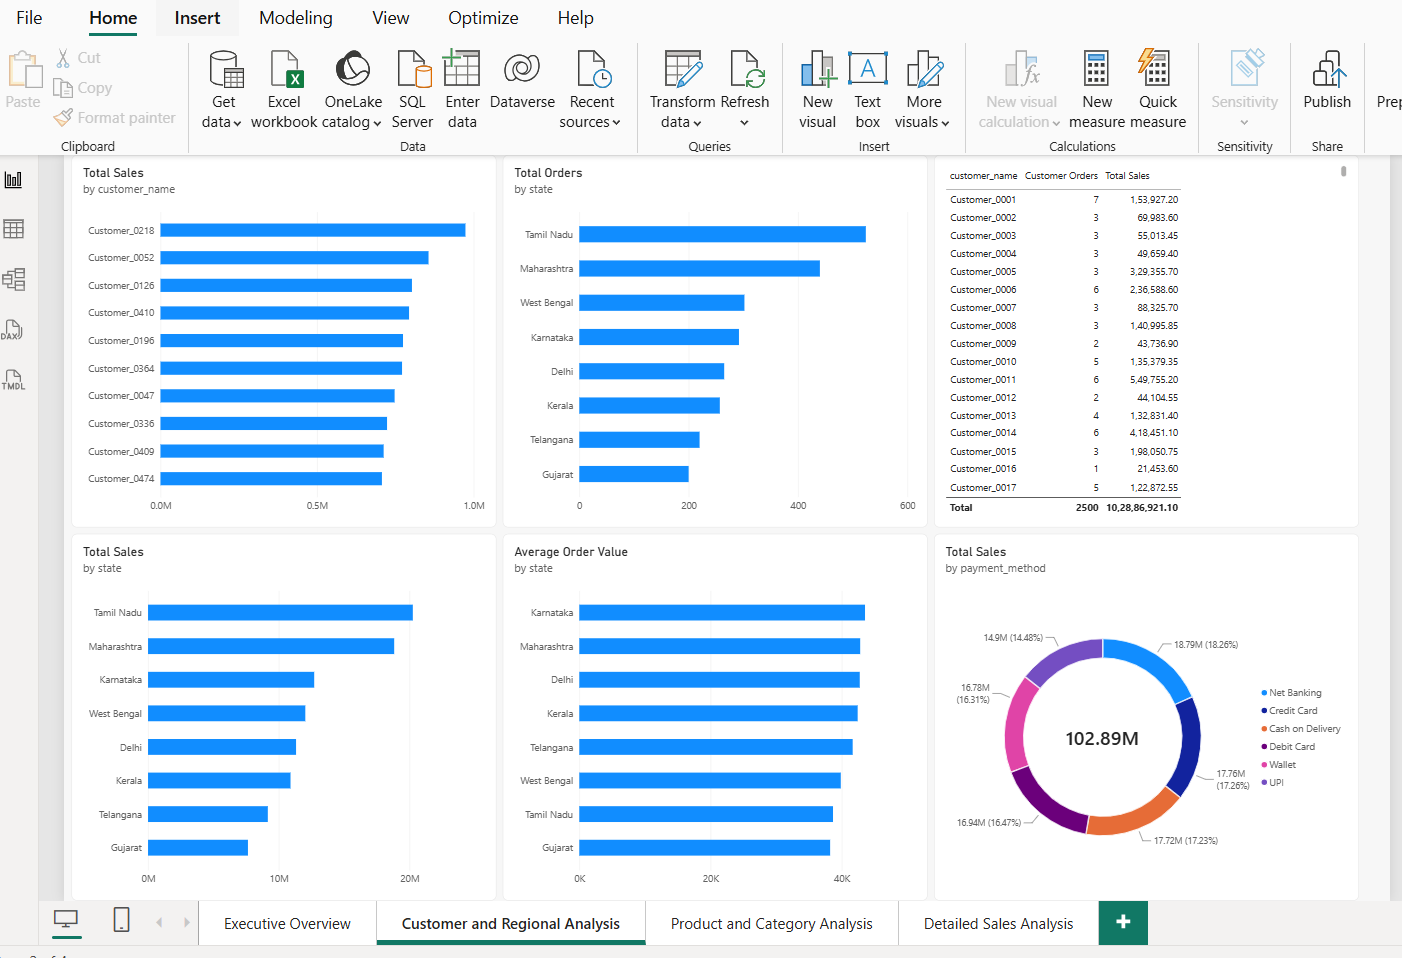

What the dashboard file says about the page in this screenshot:
{"tool":"powerbi","page":{"name":"Customer & Regional Analysis","canvas":[1920,1080],"ordinal":1},"visuals":[{"type":"clusteredBarChart","fields":{"Category":["ecommerce_sal_analysis.customer_name"],"Y":["DAX Measure.Total Sales"]},"box":[10.3,0,615.4,539.3],"z":0},{"type":"clusteredBarChart","fields":{"Category":["ecommerce_sal_analysis.state"],"Y":["DAX Measure.Total Sales"]},"box":[10,549,615,531],"z":1000},{"type":"clusteredBarChart","fields":{"Category":["ecommerce_sal_analysis.state"],"Y":["DAX Measure.Total Orders"]},"box":[635,0,615,539],"z":2000},{"type":"clusteredBarChart","fields":{"Category":["ecommerce_sal_analysis.state"],"Y":["DAX Measure.Average Order Value"]},"box":[635,549,615,531],"z":3000},{"type":"tableEx","fields":{"Values":["ecommerce_sal_analysis.customer_name","DAX Measure.Customer Orders","DAX Measure.Total Sales"]},"box":[1260,0,615,539],"z":4000},{"type":"donutChart","fields":{"Category":["ecommerce_sal_analysis.payment_method"],"Y":["DAX Measure.Total Sales"]},"box":[1260,549,615,531],"z":5000}]}

Visuals, with their boxes on the page's 1920x1080 design canvas (x1, y1, x2, y2). These are canvas units, not pixel positions in the 1402x958 screenshot, which may show the page scaled, cropped or inside an application window:
clusteredBarChart - ecommerce_sal_analysis.customer_name x DAX Measure.Total Sales: 10,0,626,539
clusteredBarChart - ecommerce_sal_analysis.state x DAX Measure.Total Sales: 10,549,625,1080
clusteredBarChart - ecommerce_sal_analysis.state x DAX Measure.Total Orders: 635,0,1250,539
clusteredBarChart - ecommerce_sal_analysis.state x DAX Measure.Average Order Value: 635,549,1250,1080
tableEx - ecommerce_sal_analysis.customer_name x DAX Measure.Customer Orders: 1260,0,1875,539
donutChart - ecommerce_sal_analysis.payment_method x DAX Measure.Total Sales: 1260,549,1875,1080
